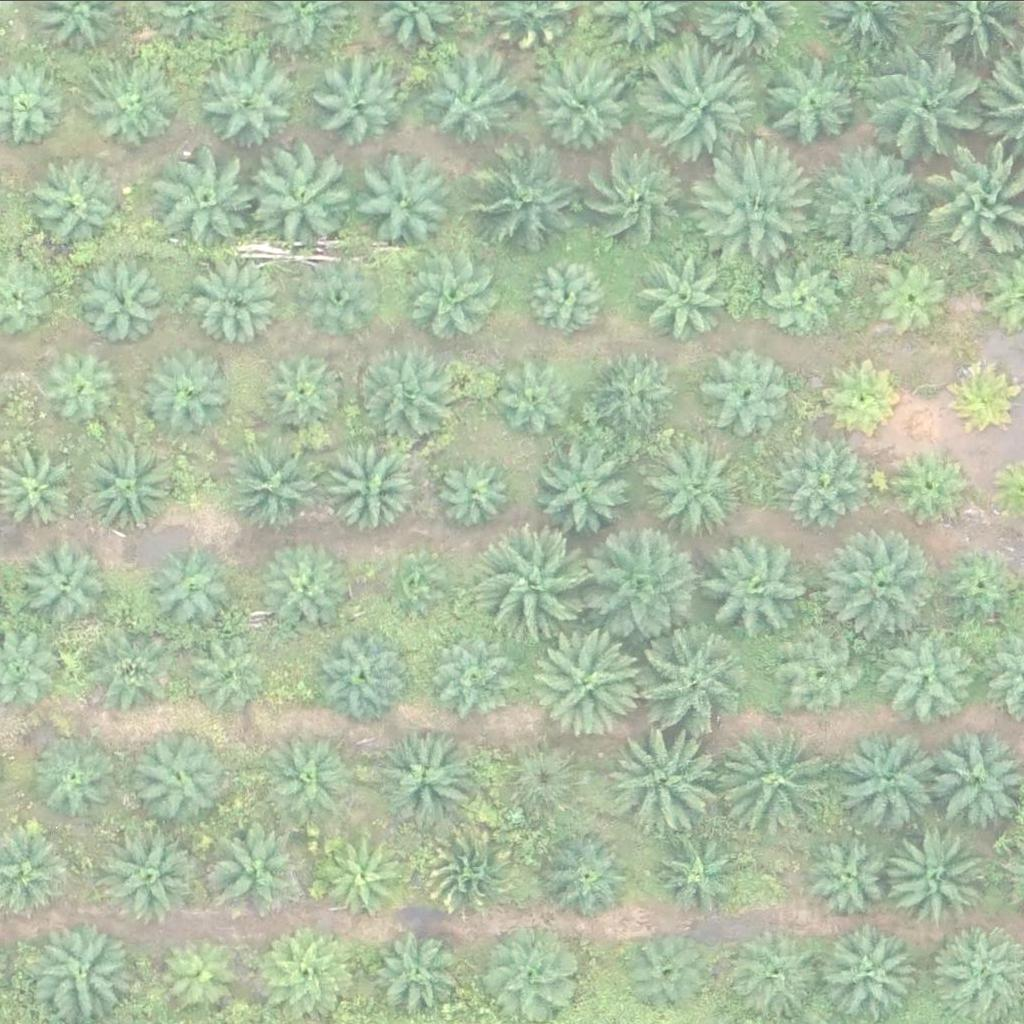Kelapa_Sawit: (612, 724, 726, 837), (250, 141, 364, 254), (873, 41, 986, 154), (589, 529, 702, 642), (699, 528, 812, 641), (822, 527, 935, 640), (635, 618, 748, 731), (531, 622, 644, 735), (726, 728, 839, 841), (650, 43, 764, 155), (474, 142, 588, 254), (479, 523, 593, 635), (809, 150, 922, 262), (694, 150, 807, 262), (581, 146, 694, 258), (755, 54, 856, 154), (355, 142, 456, 242), (639, 243, 740, 343), (355, 348, 456, 448), (643, 439, 744, 539), (315, 621, 416, 721), (372, 729, 473, 829), (842, 732, 943, 832), (890, 825, 991, 925), (253, 919, 354, 1019), (29, 916, 130, 1016), (201, 820, 302, 920), (124, 727, 225, 827), (257, 729, 358, 829), (83, 435, 184, 535), (223, 432, 324, 532), (33, 157, 134, 257), (158, 142, 259, 242), (537, 59, 637, 159), (322, 434, 422, 534), (538, 440, 638, 540), (419, 816, 519, 916), (103, 825, 203, 925), (196, 51, 296, 151), (525, 253, 614, 341), (315, 61, 403, 149), (431, 60, 519, 148), (415, 245, 503, 333), (488, 351, 576, 439), (505, 739, 593, 827), (621, 927, 709, 1015), (651, 834, 739, 922), (865, 256, 953, 344), (893, 632, 981, 720), (436, 630, 524, 718), (321, 834, 409, 922), (544, 829, 632, 917), (801, 829, 889, 917), (35, 733, 123, 821), (93, 626, 181, 714), (23, 537, 111, 625), (152, 545, 240, 633), (593, 349, 681, 436), (763, 254, 851, 341), (773, 439, 861, 526), (704, 352, 792, 439), (782, 627, 870, 714), (372, 935, 460, 1022), (730, 929, 818, 1016), (831, 926, 919, 1013), (152, 927, 240, 1014), (188, 629, 276, 716), (268, 539, 356, 626), (260, 346, 348, 433), (142, 346, 230, 433), (38, 339, 126, 426), (87, 253, 175, 340), (195, 256, 283, 343), (93, 64, 181, 151), (438, 454, 514, 529), (305, 254, 381, 329), (947, 355, 1023, 430), (889, 445, 964, 520), (825, 355, 900, 430), (382, 556, 445, 618)
